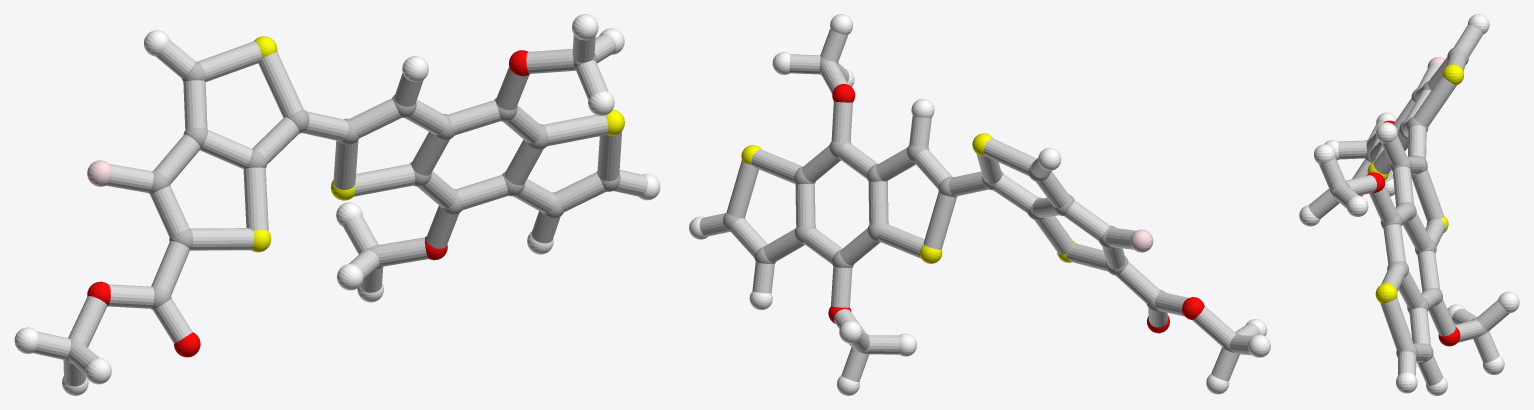
Rendered from Dimethoxy_Benzodithiophene_Phi_20_Theta_50_Methylcarbonyl_3_Fluoro_Thienothiophene.glb.
3 renders of one model, left to right at view 1: azimuth 30°, elevation 25°; view 2: azimuth 150°, elevation 25°; view 3: azimuth 270°, elevation 25°, orthographic. The views are drawn at different scales.
Parts seen in each view (by area): view 1: grp15205, grp8689, grp1, grp13395, grp7241; view 2: grp15205, grp8689, grp1, grp13395, grp7241; view 3: grp15205, grp8689, grp1, grp7241, grp13395.
Part boxes in pixels (x1=…): grp15205: x1=33, y1=34, x2=647, y2=386; grp8689: x1=14, y1=14, x2=660, y2=395; grp1: x1=65, y1=53, x2=620, y2=363; grp13395: x1=87, y1=50, x2=529, y2=357; grp7241: x1=251, y1=36, x2=624, y2=252; grp15205: x1=699, y1=28, x2=1260, y2=381; grp8689: x1=689, y1=14, x2=1270, y2=395; grp1: x1=723, y1=57, x2=1239, y2=353; grp13395: x1=828, y1=84, x2=1204, y2=333; grp7241: x1=741, y1=133, x2=1076, y2=263; grp15205: x1=1308, y1=24, x2=1509, y2=385; grp8689: x1=1299, y1=14, x2=1519, y2=395; grp1: x1=1329, y1=47, x2=1487, y2=362; grp7241: x1=1367, y1=64, x2=1463, y2=303; grp13395: x1=1360, y1=120, x2=1460, y2=346.
Bounding box in the file's own units: 16.97 × 8.29 × 6.05.
